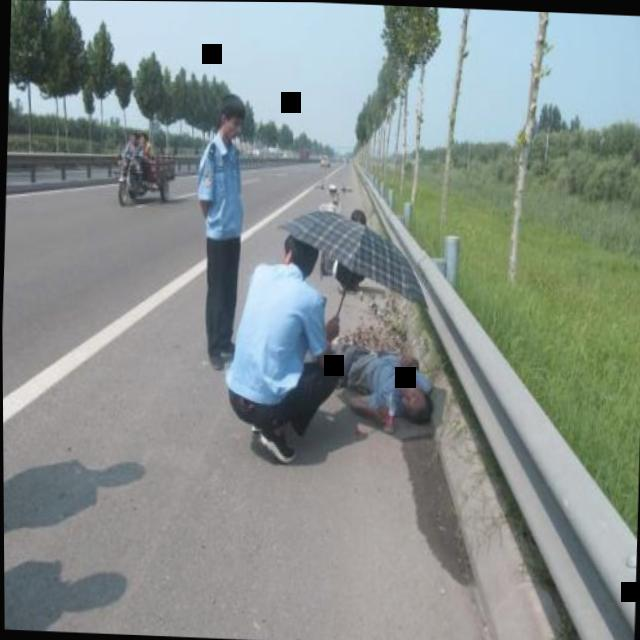Fall-Detected: (315, 320, 443, 436)
